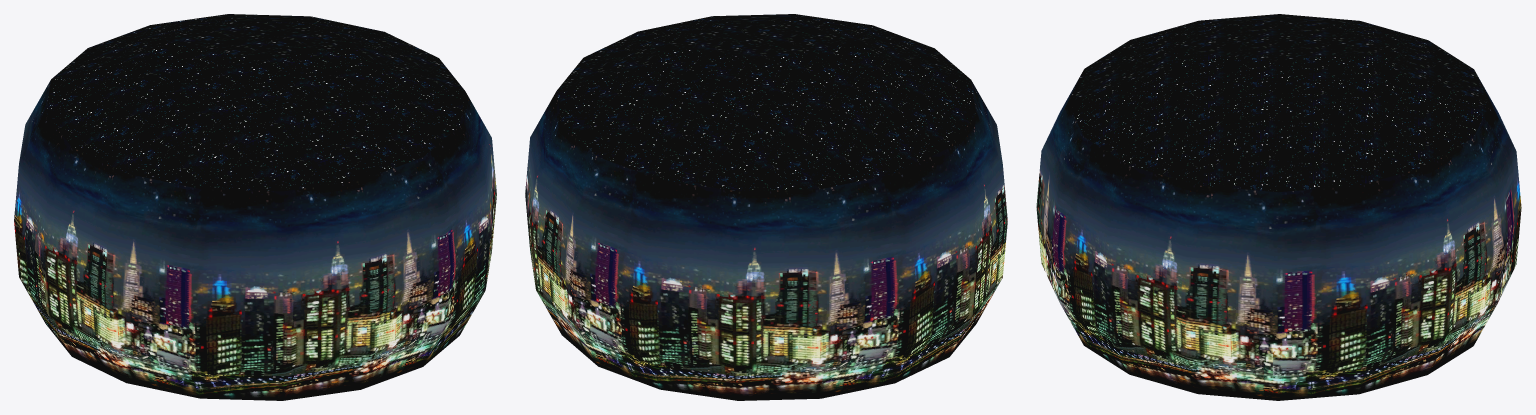
File: Sky.obj
3 views of the same model, side by side, from view 1: azimuth 30°, elevation 25°; view 2: azimuth 150°, elevation 25°; view 3: azimuth 270°, elevation 25° (orthographic).
Size of the model in its own units: 9570 by 6118 by 9570.
Materials: 3 (3 with a texture image).
